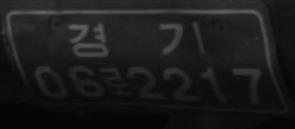0: (33, 64, 69, 100)
1: (200, 65, 228, 103)
2: (165, 65, 201, 103), (131, 65, 165, 101)
6: (70, 63, 104, 99)
7: (230, 67, 262, 106)
경기_D: (67, 19, 208, 59)
로: (103, 65, 132, 99)
